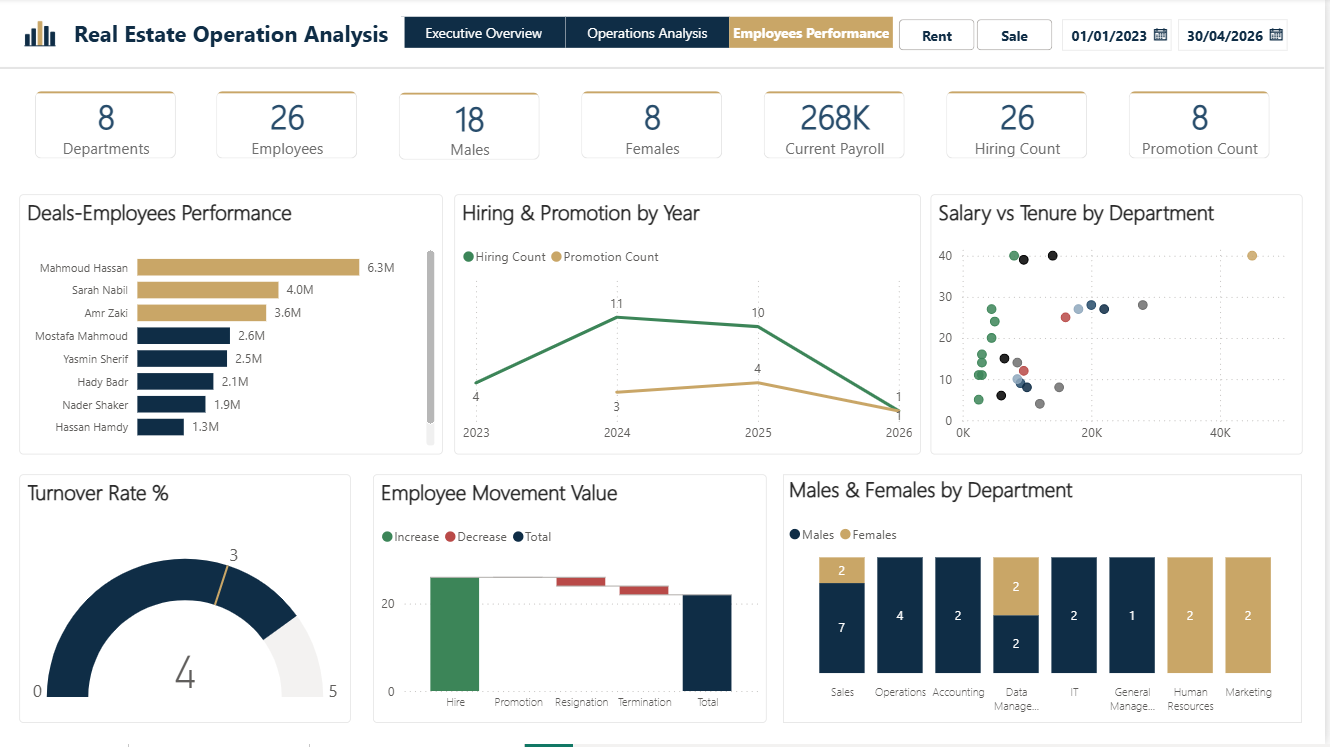

The page's visual inventory and layout, read from the dashboard file:
{"tool":"powerbi","page":{"name":"Employees Performance","canvas":[1280,720],"ordinal":2},"visuals":[{"type":"image","box":[20,15,40,40],"z":0},{"type":"pageNavigator","box":[390,18,475,30],"z":1000},{"type":"textbox","box":[72,18,320,35],"z":2000},{"type":"shape","box":[0,62,1280,12],"z":3000},{"type":"cardVisual","fields":{"Data":["Measures_P.3.Total Departments"]},"box":[20,75,166,95],"z":4000},{"type":"cardVisual","fields":{"Data":["Measures_P.3.Total Employees (All-Time)"]},"box":[196,75,166,95],"z":5000},{"type":"cardVisual","fields":{"Data":["Measures_P.3.Males"]},"box":[372,76,166,95],"z":6000},{"type":"cardVisual","fields":{"Data":["Measures_P.3.Females"]},"box":[548,75,166,95],"z":7000},{"type":"cardVisual","fields":{"Data":["Measures_P.3.Hiring Count"]},"box":[900,75,166,95],"z":8000},{"type":"cardVisual","fields":{"Data":["Measures_P.3.Current Payroll"]},"box":[724,75,166,95],"z":9000},{"type":"cardVisual","fields":{"Data":["Measures_P.3.Promotion Count"]},"box":[1076,75,166,95],"z":10000},{"type":"barChart","title":"Deals-Employees Performance","fields":{"Category":["Dim_Employees.FullName"],"Y":["Measures_P.1.Total Employees Commission"]},"box":[20.5,189.4,409,250.9],"z":11000},{"type":"hundredPercentStackedColumnChart","title":"Males & Females by Department","fields":{"Category":["Dim_Departments_Roles.DepartmentName"],"Y":["Measures_P.3.Males","Measures_P.3.Females"]},"box":[757.6,459.7,500.7,240.1],"z":12000},{"type":"scatterChart","title":"Salary vs Tenure by Department","fields":{"X":["Sum(Dim_Employees.BaseSalary_EGP)"],"Y":["Sum(Dim_Employees.TenureMonths)"],"Series":["Dim_Departments_Roles.DepartmentName"],"Category":["Dim_Employees.EmployeeID"]},"box":[900,189.4,359.5,250.9],"z":13000},{"type":"lineChart","title":"Hiring & Promotion by Year","fields":{"Y":["Measures_P.3.Hiring Count","Measures_P.3.Promotion Count"],"Category":["Dim_Employee_Career_History.EffectiveDate.Variation.Date Hierarchy.Year","Dim_Employee_Career_History.EffectiveDate.Variation.Date Hierarchy.Quarter"]},"box":[440.4,189.4,450,250.9],"z":14000},{"type":"waterfallChart","title":"Employee Movement Value","fields":{"Category":["Dim_Employee_Career_History.EventType"],"Y":["Measures_P.3.Employee Movement Value"]},"box":[361.9,459.7,380,240],"z":15000},{"type":"gauge","title":"Turnover Rate %","fields":{"Y":["Measures_P.3.Turnover Count"]},"box":[20.5,459.7,320,240],"z":16000},{"type":"slicer","fields":{"Values":["Dim_Date.Date"]},"box":[1018,15.8,240,43.4],"z":17000},{"type":"advancedSlicerVisual","fields":{"Values":["Dim_Properties.DealCategory"]},"box":[868.6,20,150.8,30],"z":18000}]}

Visuals, with their boxes in screenshot pixels (x1, y1, x2, y2), scaled from the page's 1280x720 canvas onto the 1330x747 screenshot:
image: <region>21, 16, 62, 57</region>
pageNavigator: <region>405, 19, 899, 50</region>
textbox: <region>75, 19, 407, 55</region>
shape: <region>0, 64, 1329, 77</region>
cardVisual - Measures_P.3.Total Departments: <region>21, 78, 193, 176</region>
cardVisual - Measures_P.3.Total Employees (All-Time): <region>204, 78, 376, 176</region>
cardVisual - Measures_P.3.Males: <region>387, 79, 559, 177</region>
cardVisual - Measures_P.3.Females: <region>569, 78, 742, 176</region>
cardVisual - Measures_P.3.Hiring Count: <region>935, 78, 1108, 176</region>
cardVisual - Measures_P.3.Current Payroll: <region>752, 78, 925, 176</region>
cardVisual - Measures_P.3.Promotion Count: <region>1118, 78, 1291, 176</region>
"Deals-Employees Performance" barChart: <region>21, 197, 446, 457</region>
"Males & Females by Department" hundredPercentStackedColumnChart: <region>787, 477, 1307, 726</region>
"Salary vs Tenure by Department" scatterChart: <region>935, 197, 1309, 457</region>
"Hiring & Promotion by Year" lineChart: <region>458, 197, 925, 457</region>
"Employee Movement Value" waterfallChart: <region>376, 477, 771, 726</region>
"Turnover Rate %" gauge: <region>21, 477, 354, 726</region>
slicer - Dim_Date.Date: <region>1058, 16, 1307, 61</region>
advancedSlicerVisual - Dim_Properties.DealCategory: <region>903, 21, 1059, 52</region>
